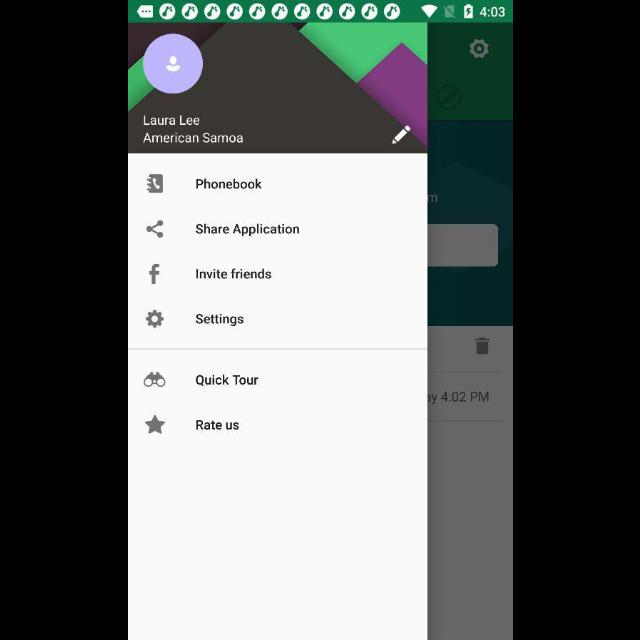icon: (142, 34, 202, 94), (390, 126, 410, 146), (144, 416, 166, 434), (144, 310, 164, 328), (146, 220, 162, 238), (148, 264, 160, 286)
image: (143, 372, 165, 388), (146, 174, 162, 193)
panel: (128, 24, 428, 640)
text: (195, 224, 299, 236), (142, 132, 242, 144), (196, 268, 270, 280), (196, 178, 262, 190), (196, 374, 258, 386), (194, 313, 243, 327), (143, 116, 200, 126), (196, 420, 238, 430)
uppertaskbar: (128, 1, 512, 23)
